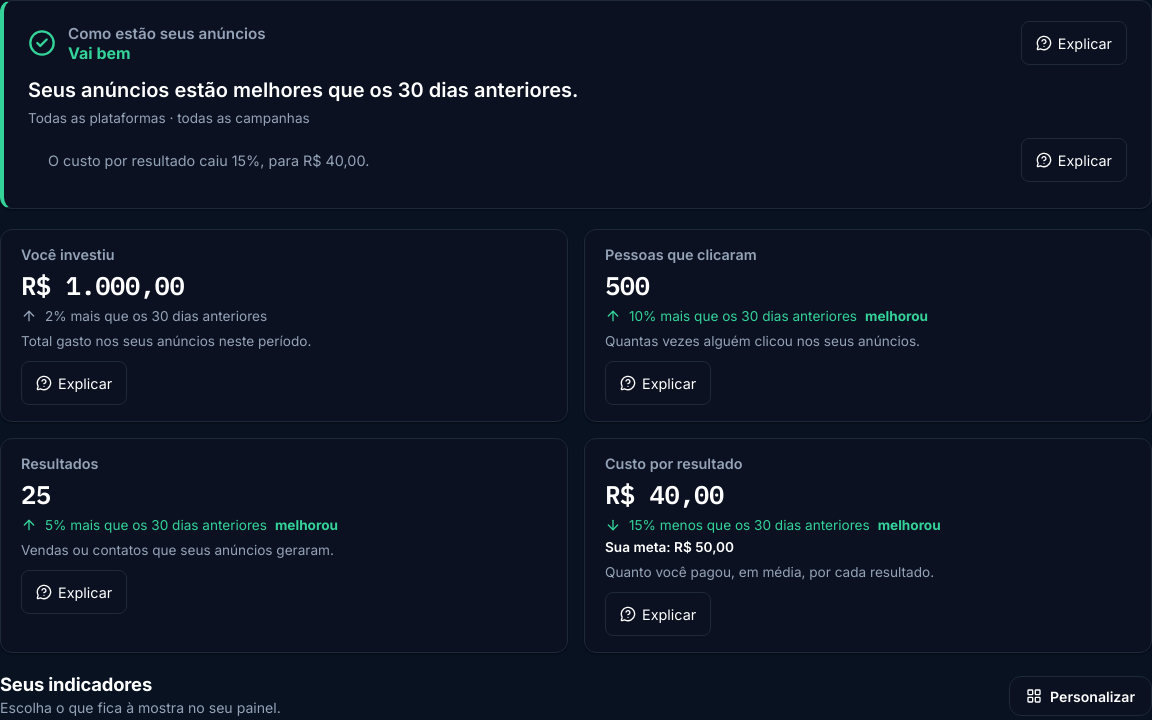
Test: SimpleOverview › opens the panel for the verdict, asks a suggested question and shows the answer
Click the button with aria-label "Explicar: Como estão seus anúncios" at [1074, 43], box [1021,21,1127,65]
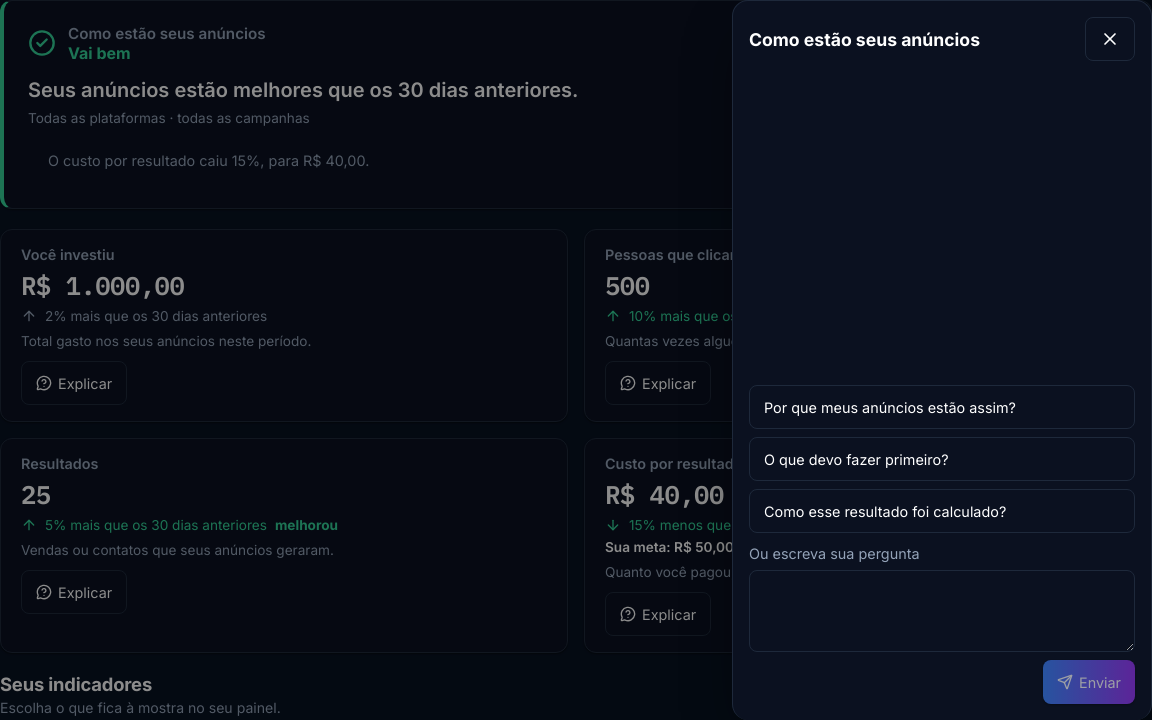
Click the button "O que devo fazer primeiro?" at [942, 459], box [749,437,1135,481]
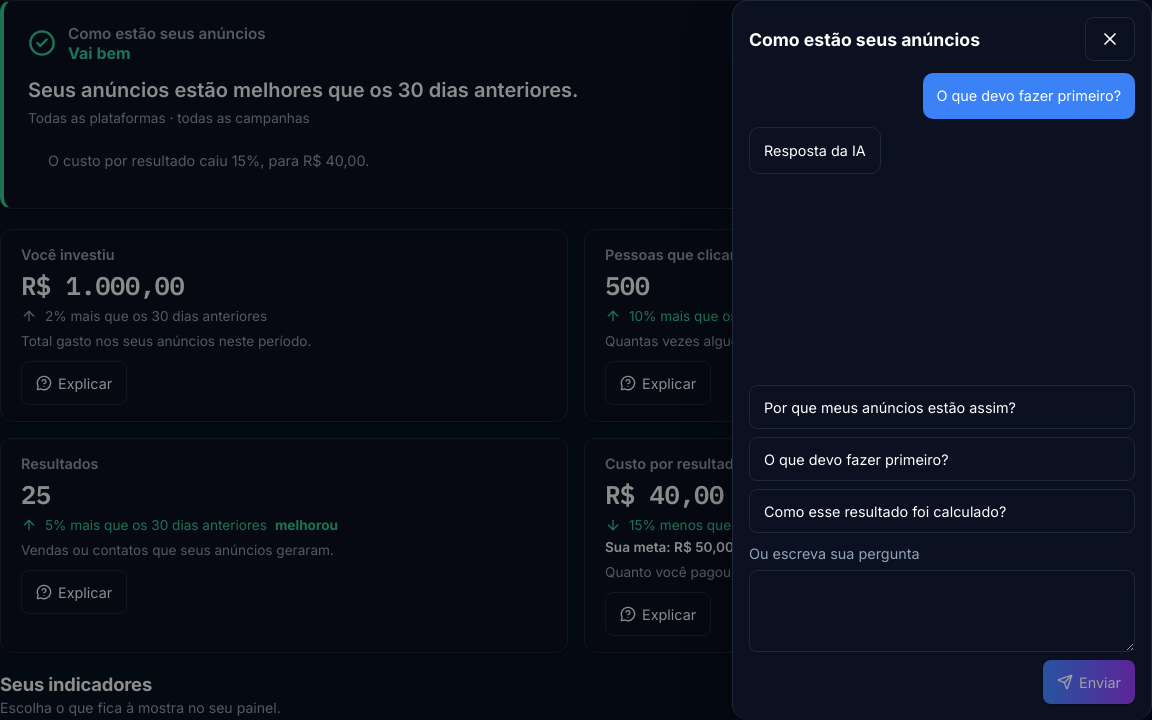
Result: the text "Resposta da IA" is shown at [749,127,881,174]
